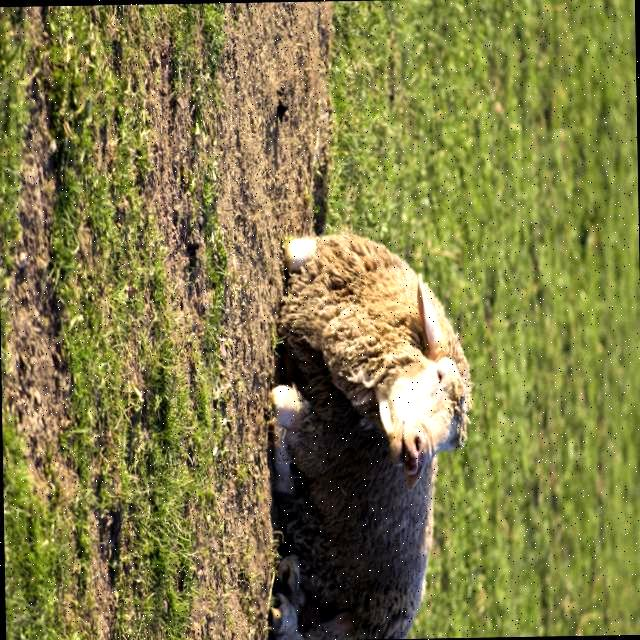sheep: (271, 226, 471, 636)
